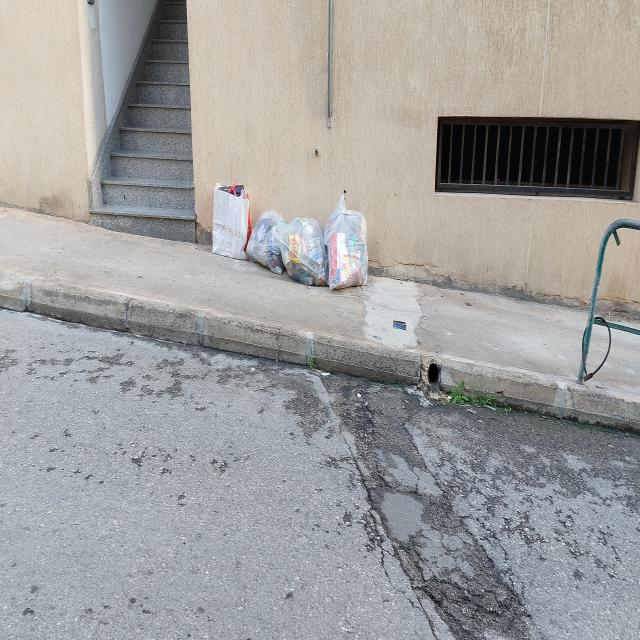Organic Waste -White Bag-: (327, 208, 371, 294), (286, 215, 329, 292), (251, 209, 286, 276)
Other: (213, 182, 252, 266)
